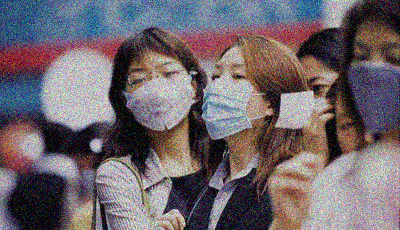with_mask: (346, 39, 399, 137), (124, 59, 191, 134), (202, 62, 266, 138)
